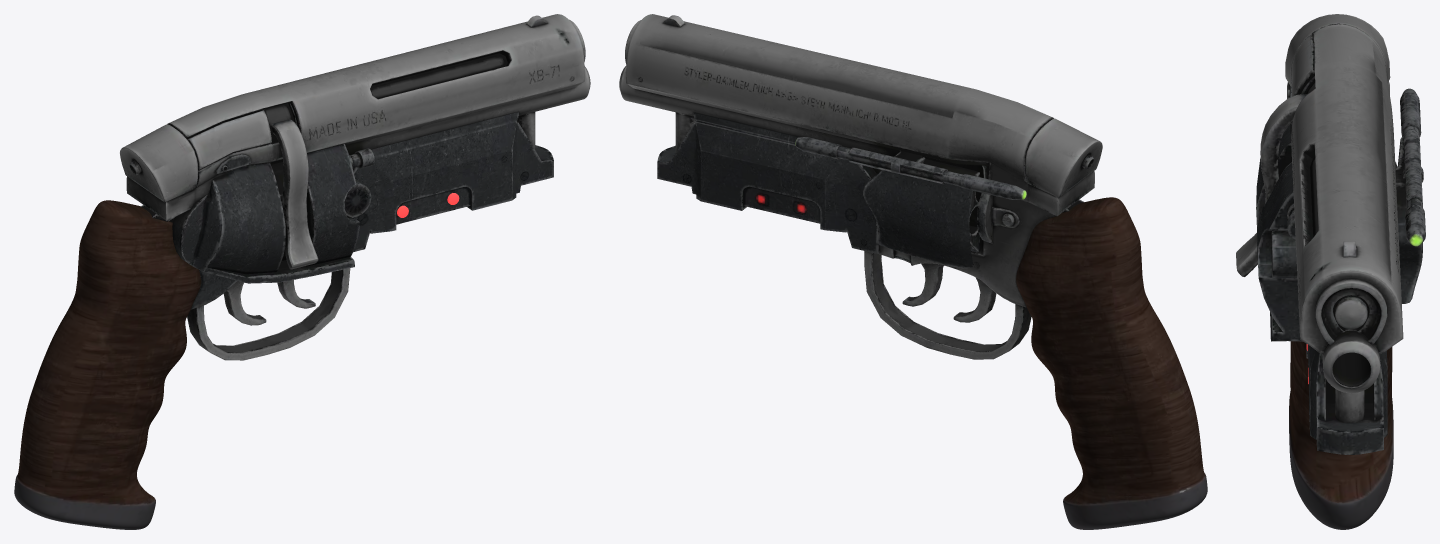
File: deckards_sidearm_from_blade_runner.glb
The picture shows the model from 3 angles, left to right: view 1: azimuth 30°, elevation 25°; view 2: azimuth 150°, elevation 25°; view 3: azimuth 270°, elevation 25°; orthographic projection. The views are drawn at different scales.
Visible parts, largest first — view 1: Cube.009_Base_0; view 2: Cube.009_Base_0; view 3: Cube.009_Base_0.
Part boxes in pixels (x1,y1,x2,y2): Cube.009_Base_0: (14,14,590,529); Cube.009_Base_0: (619,14,1207,529); Cube.009_Base_0: (1236,14,1425,529).
Bounding box in the file's own units: 3.69 × 2.53 × 0.7959.
1 material, 1 textured.
